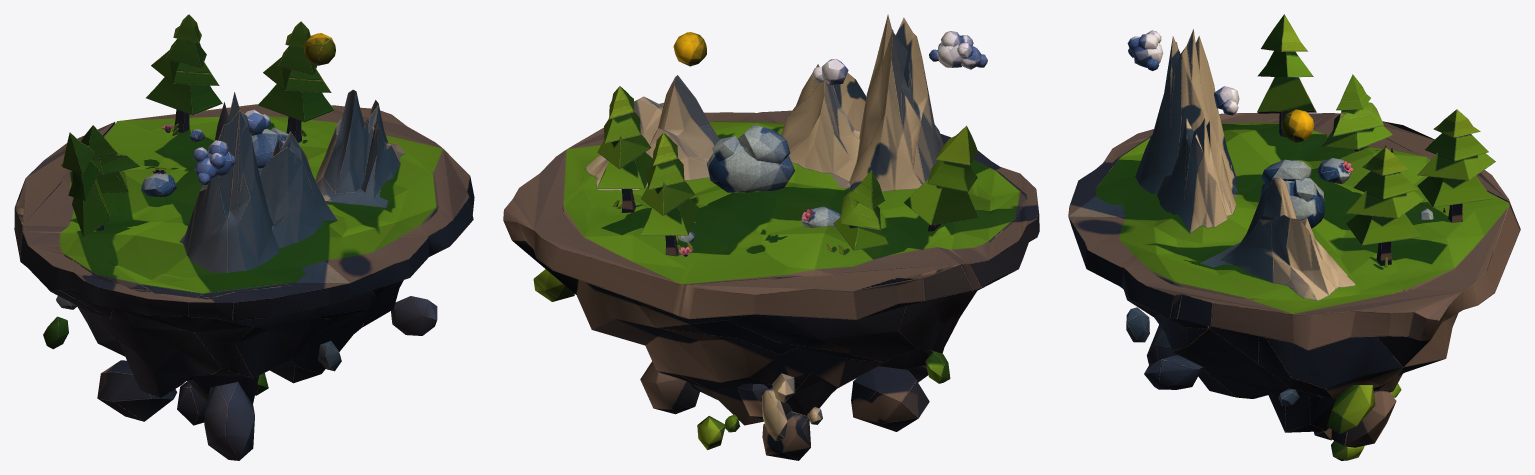
File: Island.glb
The picture shows the model from 3 angles, left to right: view 1: azimuth 30°, elevation 25°; view 2: azimuth 150°, elevation 25°; view 3: azimuth 270°, elevation 25°; orthographic projection. The views are drawn at different scales.
Parts seen in each view (by area): view 1: Object_2.670, Object_2.650, Object_2.635, Object_2.145, Object_2.168, Object_2.678, Object_2.167, Object_2.659, Object_2.123, Object_2.364, Object_2.365, Object_2.325 (+24 smaller); view 2: Object_2.670, Object_2.634, Object_2.690, Object_2.639, Object_2.679, Object_2.164, Object_2.147, Object_2.635, Object_2.118, Object_2.658, Object_2.678, Object_2.134 (+34 smaller); view 3: Object_2.670, Object_2.677, Object_2.662, Object_2.642, Object_2.650, Object_2.168, Object_2.145, Object_2.151, Object_2.165, Object_2.121, Object_2.679, Object_2.130 (+37 smaller).
Part boxes in pixels (bbox=[...]): Object_2.670: bbox=[22, 104, 470, 302]; Object_2.650: bbox=[218, 197, 473, 378]; Object_2.635: bbox=[77, 305, 221, 397]; Object_2.145: bbox=[259, 146, 337, 248]; Object_2.168: bbox=[227, 110, 279, 272]; Object_2.678: bbox=[20, 232, 188, 316]; Object_2.167: bbox=[179, 125, 229, 272]; Object_2.659: bbox=[101, 306, 253, 378]; Object_2.123: bbox=[335, 92, 375, 193]; Object_2.364: bbox=[225, 382, 254, 460]; Object_2.365: bbox=[204, 386, 238, 460]; Object_2.325: bbox=[97, 371, 151, 401]; Object_2.670: bbox=[503, 110, 1038, 291]; Object_2.634: bbox=[576, 280, 890, 425]; Object_2.690: bbox=[680, 278, 924, 319]; Object_2.639: bbox=[644, 306, 916, 362]; Object_2.679: bbox=[536, 237, 799, 315]; Object_2.164: bbox=[851, 60, 921, 191]; Object_2.147: bbox=[788, 97, 859, 181]; Object_2.635: bbox=[898, 290, 976, 353]; Object_2.118: bbox=[710, 151, 787, 192]; Object_2.658: bbox=[657, 320, 881, 362]; Object_2.678: bbox=[969, 213, 1039, 287]; Object_2.134: bbox=[664, 85, 713, 163]; Object_2.670: bbox=[1068, 113, 1509, 320]; Object_2.677: bbox=[1210, 303, 1426, 350]; Object_2.662: bbox=[1209, 326, 1402, 399]; Object_2.642: bbox=[1173, 328, 1444, 398]; Object_2.650: bbox=[1068, 217, 1236, 397]; Object_2.168: bbox=[1135, 36, 1181, 193]; Object_2.145: bbox=[1157, 119, 1203, 233]; Object_2.151: bbox=[1190, 119, 1232, 233]; Object_2.165: bbox=[1177, 29, 1237, 193]; Object_2.121: bbox=[1219, 219, 1272, 282]; Object_2.679: bbox=[1473, 203, 1520, 305]; Object_2.130: bbox=[1286, 218, 1328, 294].
Size of the model in its own units: 307 by 265 by 278.
1 material, 1 textured.
